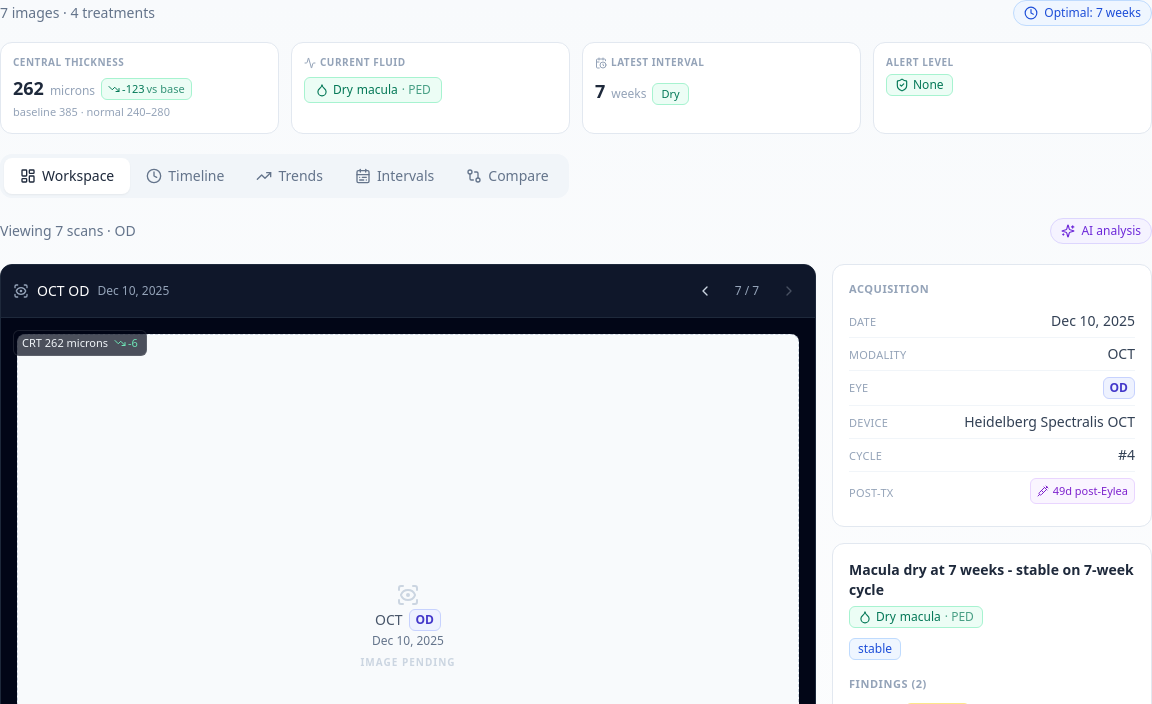
Test case: Interval ladder › renders the ladder card with an outcome legend on the Intervals tab
The image size is (1152, 704).
What coordinates should you click on to do the following:
click the tab "Intervals"
I would click on:
 (395, 176)
Its box is [339,158,450,194].
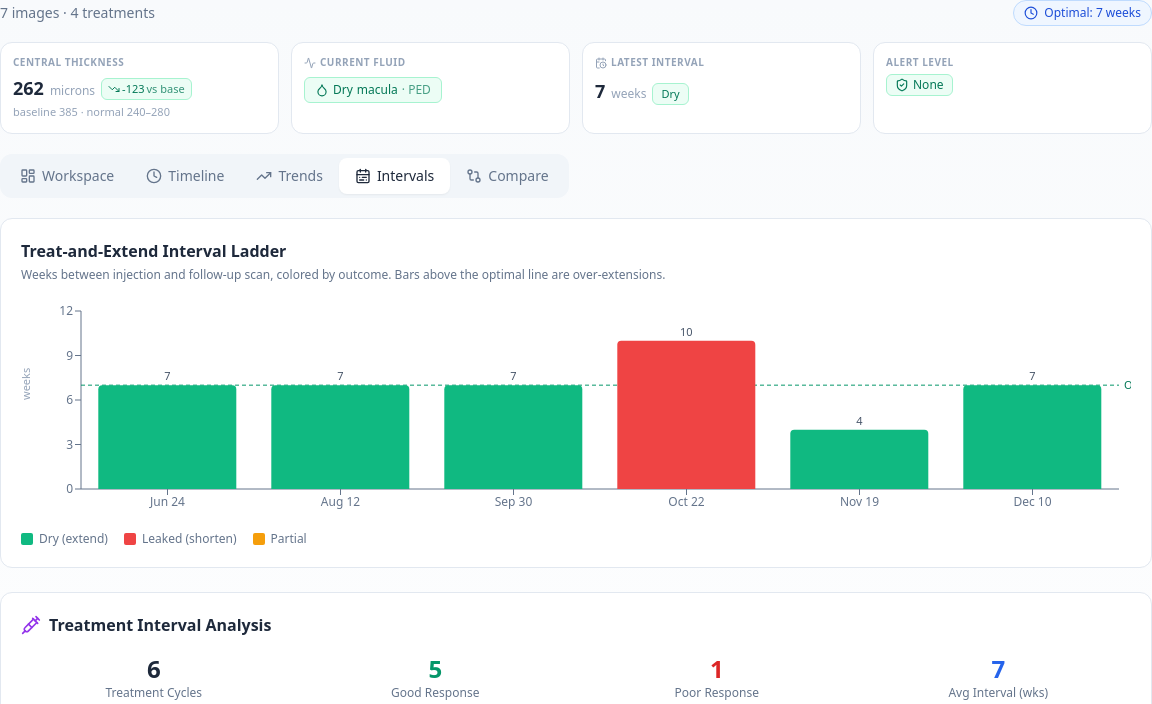
Now the element with test id "interval-ladder" shows "Treat-and-Extend Interval Ladder", box [21,240,286,262]
Now the element with test id "interval-ladder" shows "Dry (extend)", box [39,530,108,546]
Now the element with test id "interval-ladder" shows "Leaked (shorten)", box [142,530,236,546]
